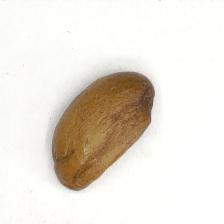NG: (132, 76, 156, 122)
